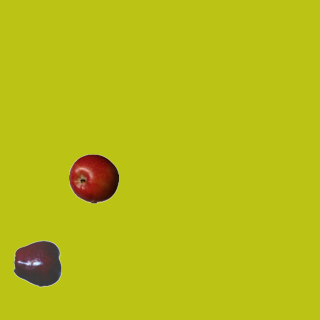Apple Braeburn: (68, 153, 118, 203)
Apple Red Delicious: (13, 238, 63, 288)
